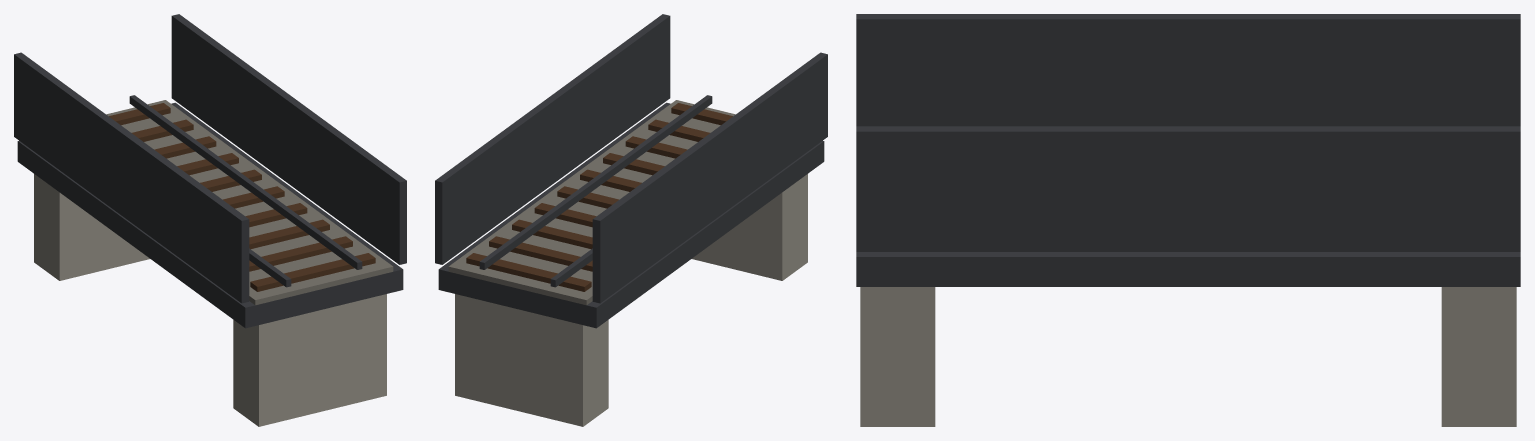
Rendered from road_rail_v_bridge.glb.
3 views of the same model, side by side, from view 1: azimuth 30°, elevation 25°; view 2: azimuth 150°, elevation 25°; view 3: azimuth 270°, elevation 25° (orthographic). The views are drawn at different scales.
Parts seen in each view (by area): view 1: body; view 2: body; view 3: body.
Part boxes in pixels (<box>): body: <box>14,14,406,426</box>; body: <box>435,14,827,426</box>; body: <box>856,14,1520,426</box>.
Size of what is drawn, in the model's own units: 3.35 by 4.1 by 8.
